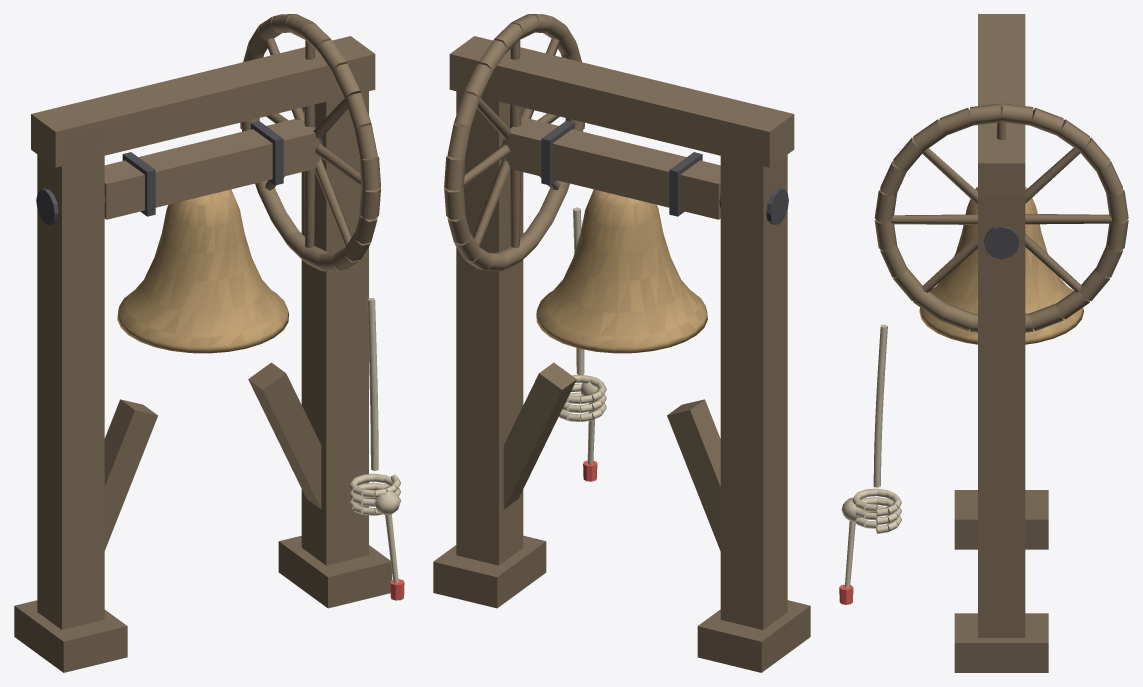
The model's file is storm_bell_a_knotted.glb.
3 renders of one model, left to right at view 1: azimuth 30°, elevation 25°; view 2: azimuth 150°, elevation 25°; view 3: azimuth 270°, elevation 25°, orthographic. The views are drawn at different scales.
Parts seen in each view (by area): view 1: body, bell, rope; view 2: body, bell, rope; view 3: body, bell, rope.
Part boxes in pixels (x1=…): body: x1=14, y1=36, x2=391, y2=672; bell: x1=104, y1=14, x2=380, y2=353; rope: x1=349, y1=298, x2=404, y2=600; body: x1=433, y1=36, x2=810, y2=672; bell: x1=444, y1=14, x2=720, y2=353; rope: x1=559, y1=207, x2=606, y2=481; body: x1=954, y1=14, x2=1048, y2=672; bell: x1=874, y1=103, x2=1128, y2=344; rope: x1=839, y1=324, x2=901, y2=604.
Size of the model in its own units: 1.54 by 2.53 by 1.23.
